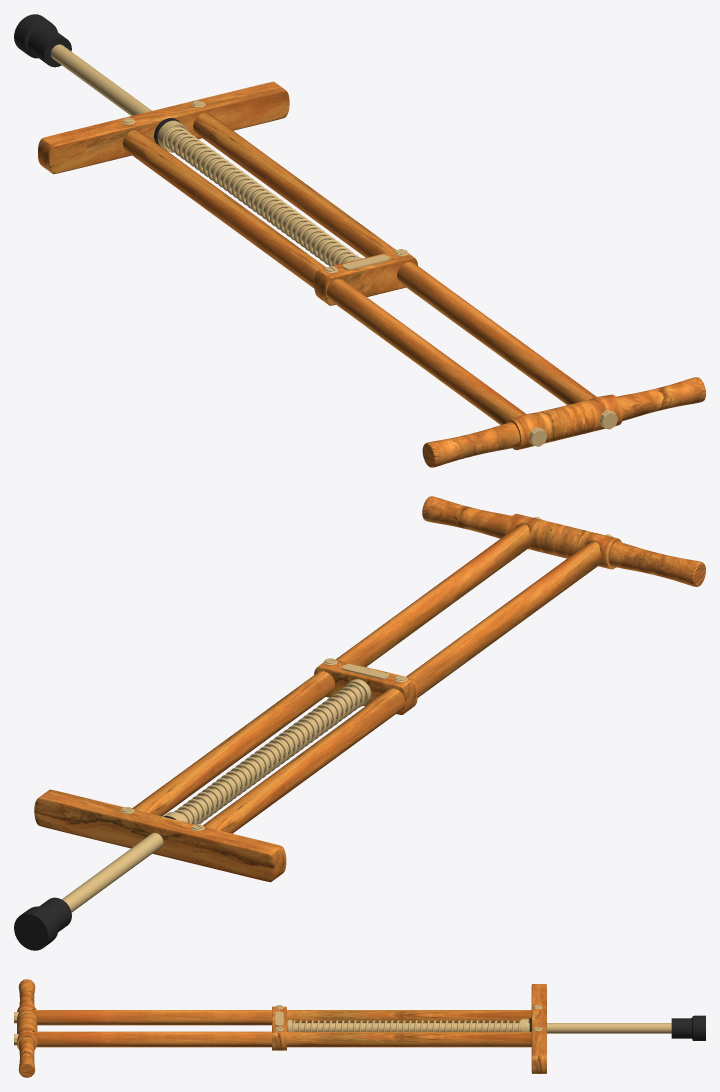
The model's file is pogo.fbx.
The picture shows the model from 3 angles, top to bottom: view 1: azimuth 30°, elevation 25°; view 2: azimuth 150°, elevation 25°; view 3: azimuth 270°, elevation 25°; orthographic projection. The views are drawn at different scales.
Visible parts, largest first — view 1: 11692_pogo_stick_v1_l3; view 2: 11692_pogo_stick_v1_l3; view 3: 11692_pogo_stick_v1_l3.
Boxes of the visible parts, box(x1,y1,x2,y2) form: 11692_pogo_stick_v1_l3: box(14, 14, 705, 467); 11692_pogo_stick_v1_l3: box(14, 496, 705, 950); 11692_pogo_stick_v1_l3: box(14, 979, 705, 1077).
Bounding box in the file's own units: 3455 × 440 × 11956.
8 materials, 4 textured.
